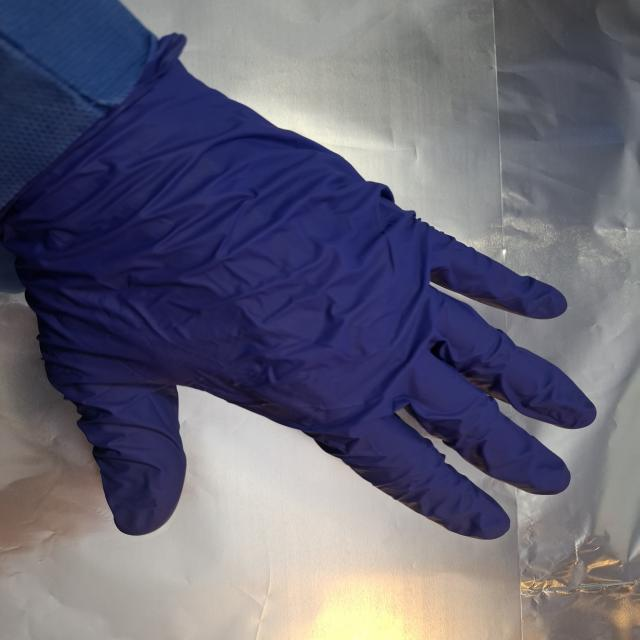glove_on: (2, 65, 602, 542)
